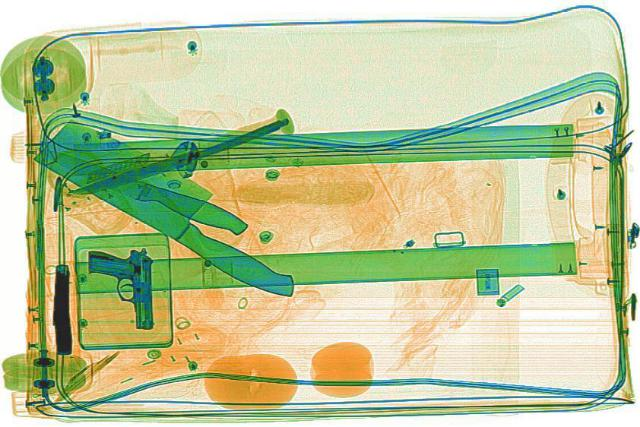Gun: (86, 246, 158, 328), (42, 263, 80, 354)
Knife: (19, 112, 337, 303), (20, 138, 254, 237), (66, 118, 290, 199)
